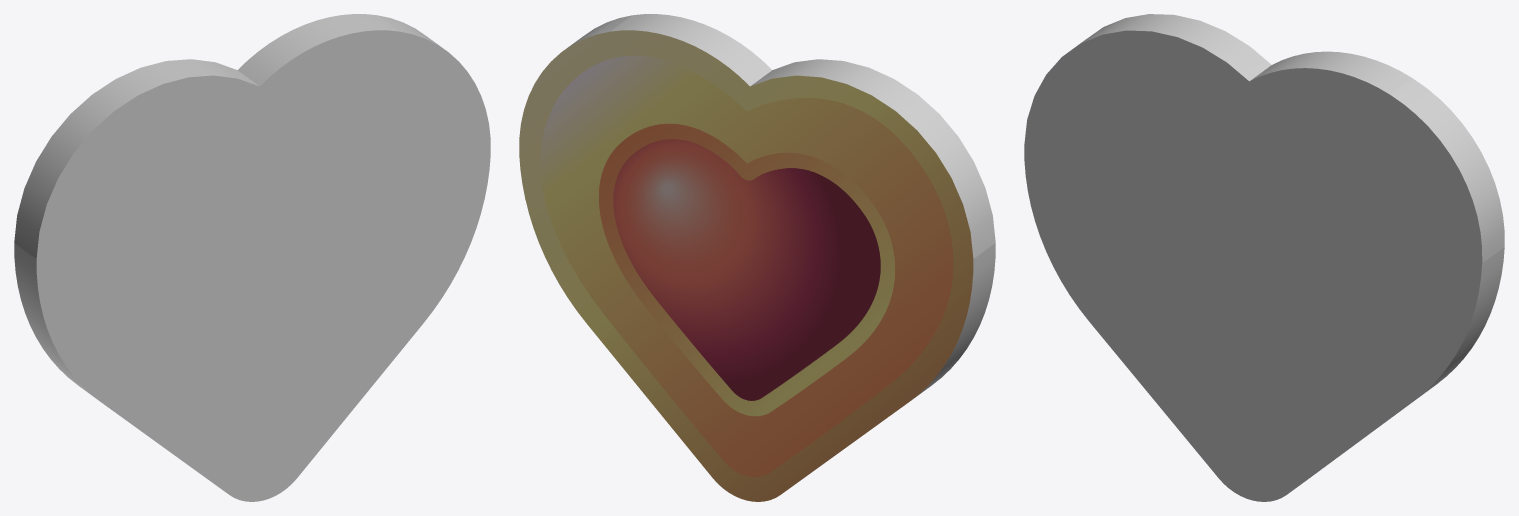
File: HearthSketchup.obj
The picture shows the model from 3 angles, left to right: view 1: azimuth 30°, elevation 25°; view 2: azimuth 150°, elevation 25°; view 3: azimuth 330°, elevation 25°; orthographic projection.
Parts seen in each view (by area): view 1: Mesh1 Model; view 2: Mesh1 Model; view 3: Mesh1 Model.
Boxes of the visible parts, x1,y1,x2,y2 form: Mesh1 Model: [14, 14, 490, 501]; Mesh1 Model: [519, 14, 995, 501]; Mesh1 Model: [1024, 14, 1504, 501].
Size of the model in its own units: 4.57 by 4.29 by 0.39.
